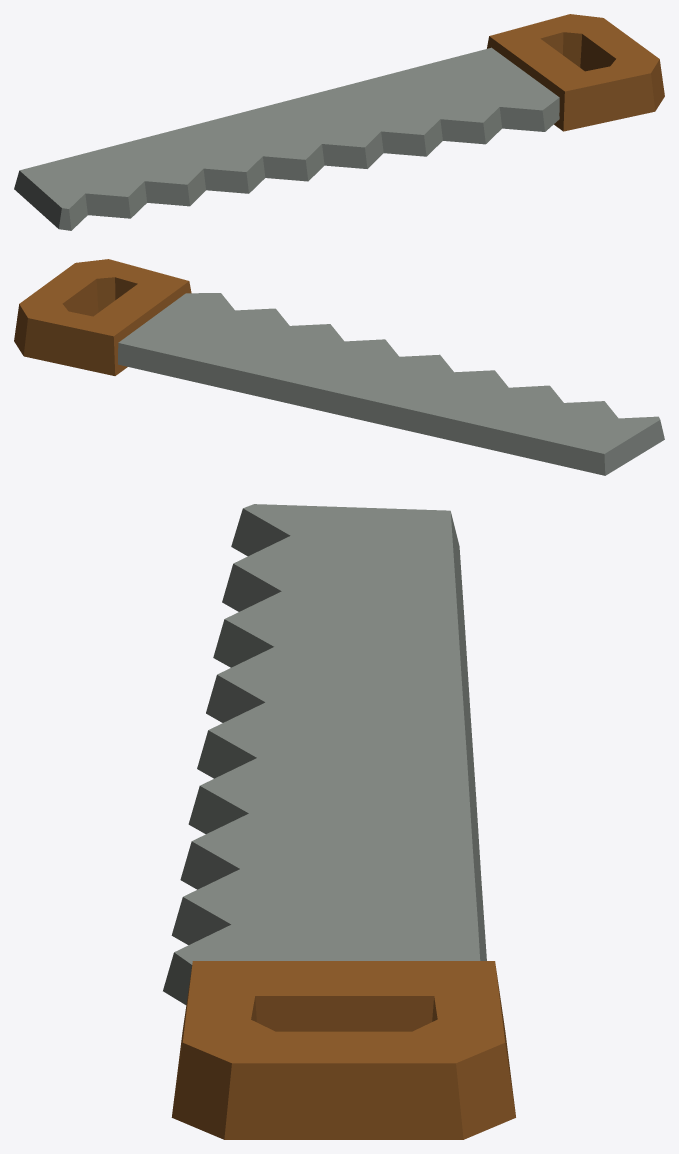
Rendered from SM_HandSaw.fbx.
The picture shows the model from 3 angles, top to bottom: view 1: azimuth 30°, elevation 25°; view 2: azimuth 150°, elevation 25°; view 3: azimuth 270°, elevation 25°; orthographic projection. The views are drawn at different scales.
Visible parts, largest first — view 1: SM_HandSaw; view 2: SM_HandSaw; view 3: SM_HandSaw.
Part boxes in pixels (x1,y1,x2,y2): SM_HandSaw: (14,14,664,230); SM_HandSaw: (14,259,664,475); SM_HandSaw: (163,504,515,1139).
Size of the model in its own units: 66.64 by 3.95 by 17.06.
